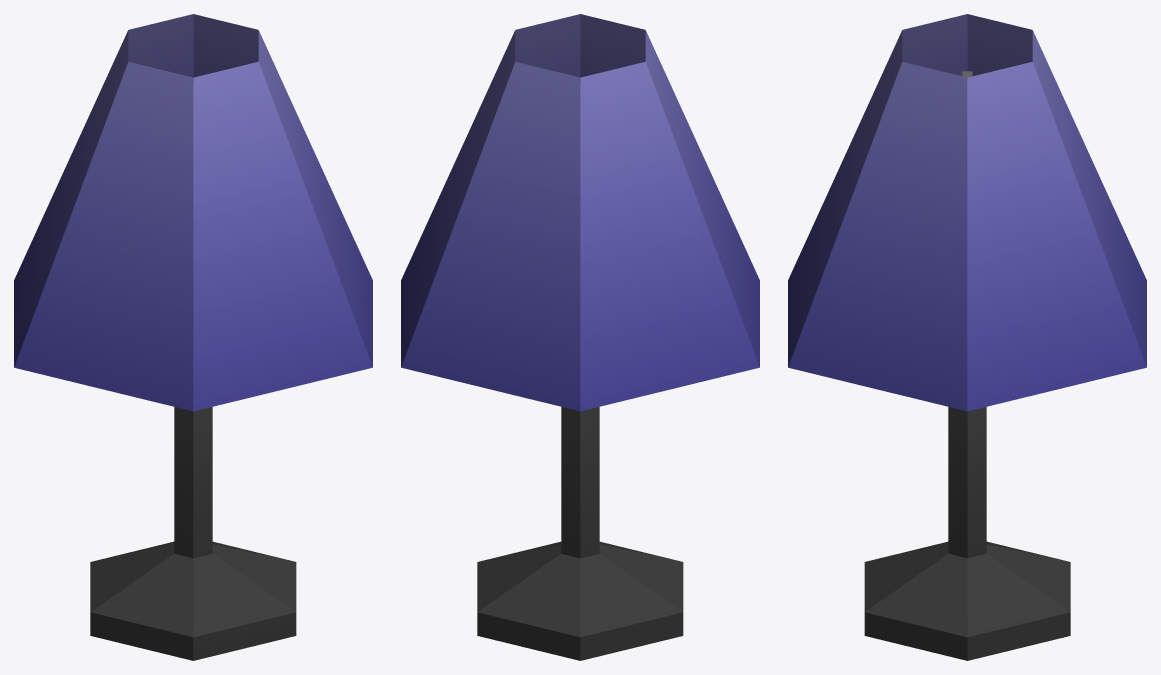
The model's file is lampadina.fbx.
3 renders of one model, left to right at view 1: azimuth 30°, elevation 25°; view 2: azimuth 150°, elevation 25°; view 3: azimuth 270°, elevation 25°, orthographic.
Visible parts, largest first — view 1: lampadina; view 2: lampadina; view 3: lampadina.
Part boxes in pixels (x1,y1,x2,y2): lampadina: [14, 14, 372, 660]; lampadina: [401, 14, 759, 660]; lampadina: [788, 14, 1146, 660].
Bounding box in the file's own units: 85.43 × 129 × 73.98.
